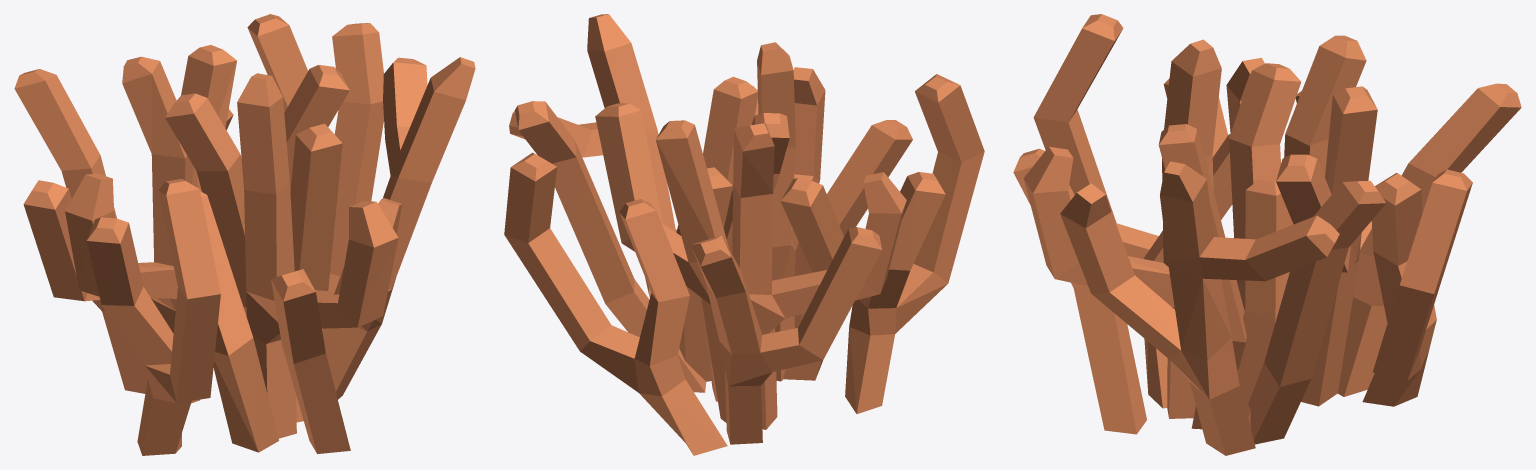
File: Coral14.fbx
3 renders of one model, left to right at view 1: azimuth 30°, elevation 25°; view 2: azimuth 150°, elevation 25°; view 3: azimuth 270°, elevation 25°, orthographic. The views are drawn at different scales.
Parts seen in each view (by area): view 1: Coral14; view 2: Coral14; view 3: Coral14.
Part boxes in pixels (x1,y1,x2,y2): Coral14: [14, 14, 475, 455]; Coral14: [504, 14, 984, 455]; Coral14: [1013, 14, 1521, 455].
Size of the model in its own units: 1.94 by 1.65 by 2.08.
